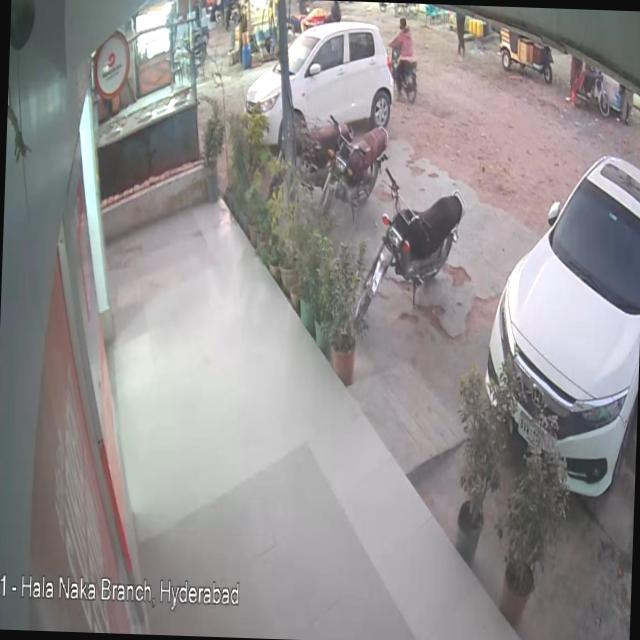Car: (478, 103, 640, 511), (222, 4, 400, 137)
Motorcycle: (354, 155, 476, 330), (322, 113, 396, 212)
